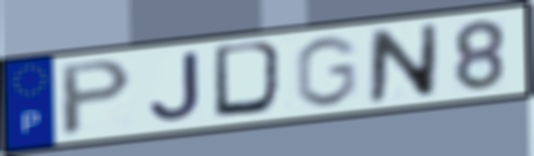8: (450, 18, 508, 93)
D: (210, 38, 291, 120)
G: (292, 33, 361, 109)
J: (146, 49, 202, 124)
N: (365, 21, 442, 105)
P: (58, 56, 136, 140)
